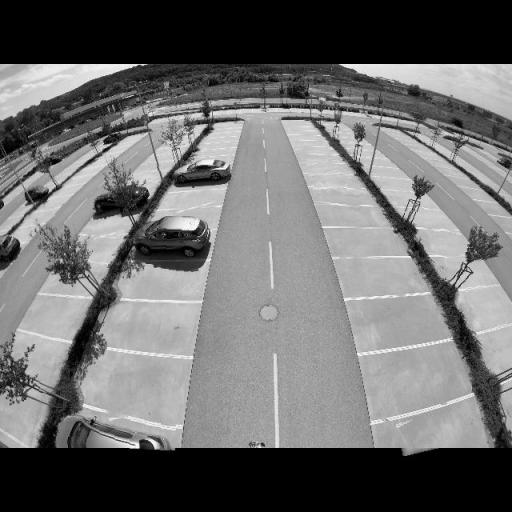busy: (52, 412, 176, 449), (135, 215, 212, 257), (172, 158, 231, 184), (93, 192, 128, 216), (0, 234, 22, 262)
free: (100, 360, 182, 418), (397, 410, 481, 452), (380, 357, 450, 403), (1, 334, 55, 392), (125, 307, 192, 346), (346, 257, 411, 295), (372, 304, 438, 341), (138, 262, 198, 296), (336, 226, 395, 257), (466, 286, 507, 330), (71, 232, 118, 268), (446, 252, 484, 292), (418, 225, 460, 258), (34, 303, 80, 329), (316, 184, 360, 208), (404, 204, 442, 231), (90, 210, 124, 238), (174, 190, 215, 213), (332, 206, 374, 228), (312, 170, 347, 190), (385, 188, 417, 209), (24, 209, 54, 228), (307, 158, 336, 176), (42, 195, 65, 211), (133, 170, 152, 185), (301, 152, 325, 163), (148, 161, 166, 172), (202, 148, 220, 159), (61, 186, 75, 198)
